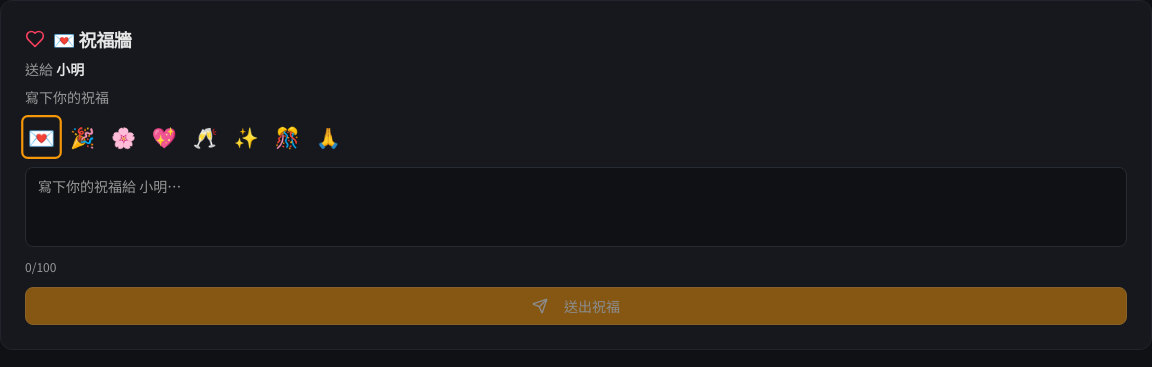
Test: WishWall › 輸入後送出按鈕啟用
Type "恭喜你！" into the text box with test id "wish-input" at (576, 207), box [25,167,1127,247]
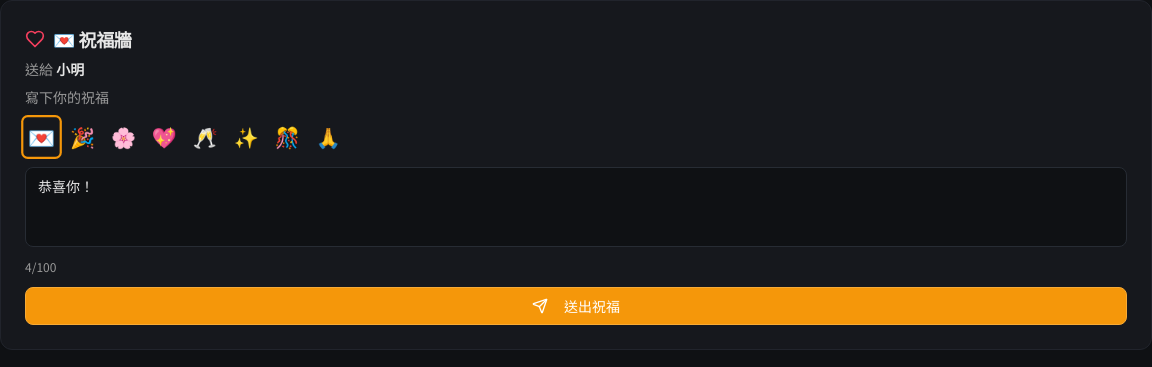
Result: the button with test id "wish-submit-btn" is enabled at [25,287,1127,325]
